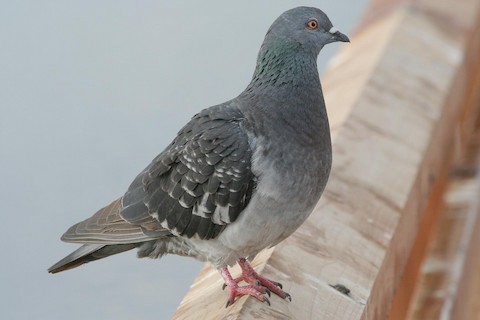pigeon: (45, 2, 354, 308)
